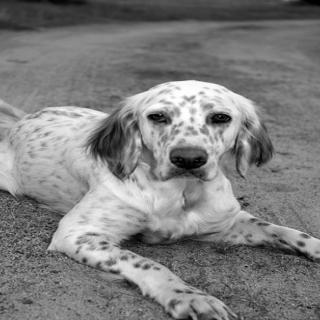dog: (84, 76, 273, 194)
nose: (165, 142, 213, 172)
